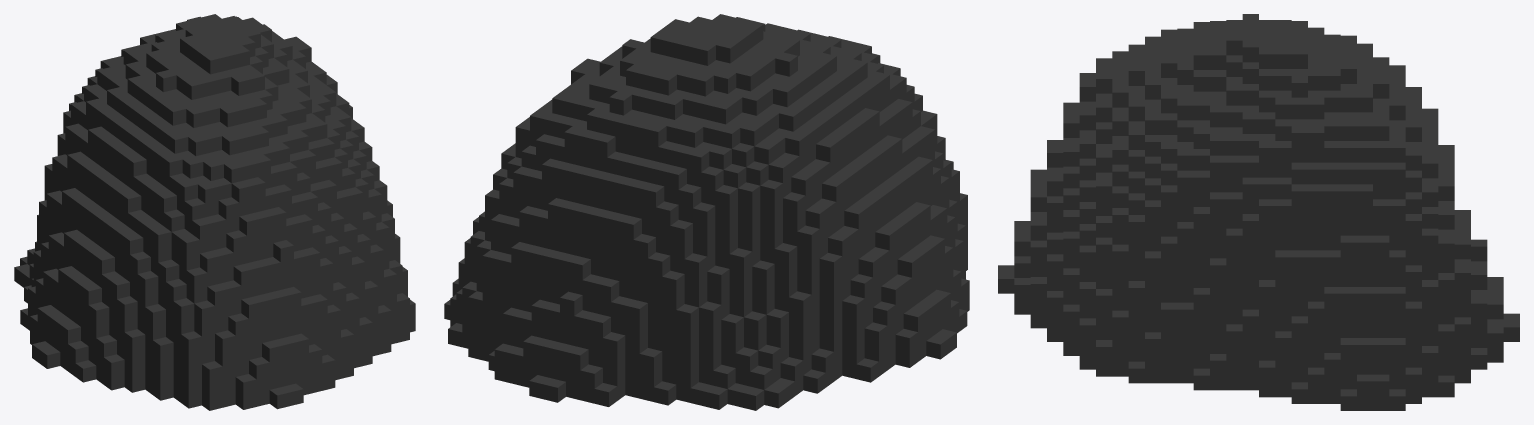
The model's file is Rock.obj.
The picture shows the model from 3 angles, left to right: view 1: azimuth 30°, elevation 25°; view 2: azimuth 150°, elevation 25°; view 3: azimuth 270°, elevation 25°; orthographic projection. The views are drawn at different scales.
Visible parts, largest first — view 1: Rock; view 2: Rock; view 3: Rock.
Part boxes in pixels (bbox=[...]): Rock: bbox=[14, 14, 415, 410]; Rock: bbox=[444, 14, 969, 410]; Rock: bbox=[998, 14, 1519, 410].
Bounding box in the file's own units: 29 × 19 × 32.
1 material, 1 textured.
